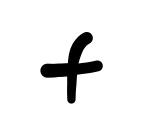plus: (40, 32, 103, 103)
